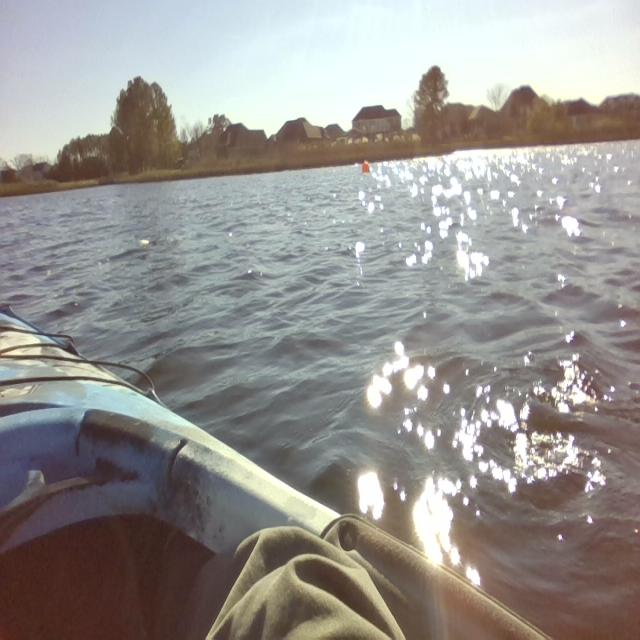Buoy: (358, 153, 379, 181)
